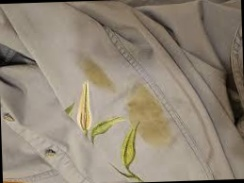earth: (128, 88, 158, 120), (83, 60, 105, 83), (143, 120, 166, 141)
